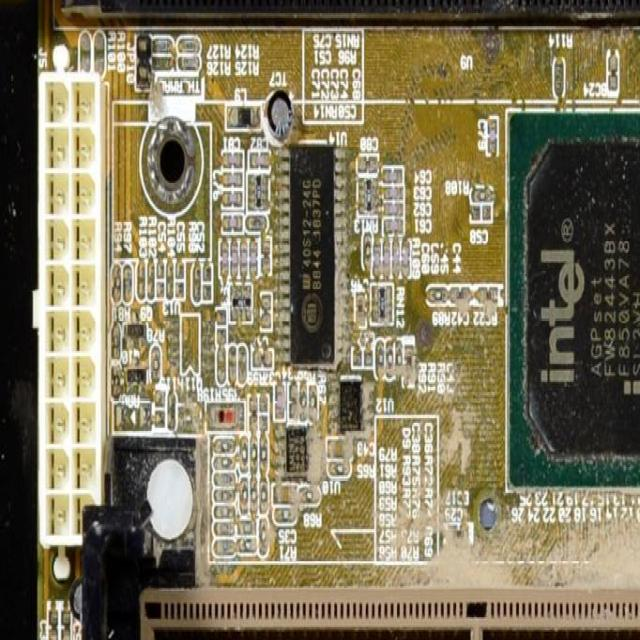IC: (504, 106, 640, 498), (277, 142, 344, 367), (330, 372, 374, 441), (276, 428, 316, 477)
capacitor: (272, 480, 296, 500), (327, 436, 351, 455), (474, 288, 498, 306), (383, 199, 404, 219), (448, 284, 468, 304), (222, 167, 242, 186), (176, 256, 185, 297), (249, 150, 270, 167), (488, 115, 497, 154), (203, 258, 212, 297), (383, 165, 402, 183), (223, 148, 243, 165), (222, 189, 242, 206), (274, 384, 284, 418), (383, 183, 404, 199), (470, 204, 492, 217), (383, 219, 403, 233), (357, 155, 380, 167), (157, 260, 164, 297)
connector: (135, 588, 640, 640), (55, 0, 639, 29)
resistor: (116, 400, 151, 429), (151, 52, 177, 72), (110, 320, 121, 367), (111, 262, 122, 306), (150, 342, 161, 386), (249, 236, 260, 278), (260, 237, 271, 279), (361, 233, 372, 274), (260, 289, 271, 330), (426, 282, 448, 302), (164, 390, 177, 423), (240, 475, 251, 514), (222, 212, 243, 232), (374, 338, 384, 380), (252, 349, 276, 366), (219, 237, 228, 281), (241, 238, 250, 282), (191, 262, 200, 306), (151, 36, 177, 51), (355, 289, 365, 327), (211, 487, 237, 501), (248, 394, 257, 434), (260, 434, 269, 474), (300, 486, 320, 504), (138, 258, 146, 302), (274, 506, 297, 521), (326, 461, 352, 474), (212, 474, 236, 488), (213, 505, 237, 519), (554, 59, 563, 96), (212, 436, 234, 451), (364, 328, 373, 364), (469, 185, 492, 199), (212, 539, 235, 553), (231, 237, 238, 282), (238, 346, 247, 381), (146, 258, 154, 297), (165, 258, 173, 297), (217, 304, 225, 343), (394, 339, 402, 378), (260, 392, 268, 431), (244, 214, 266, 228), (214, 454, 236, 468), (124, 262, 132, 300), (259, 477, 267, 514), (214, 521, 236, 534), (176, 56, 199, 68), (229, 342, 236, 381), (260, 518, 267, 555), (300, 377, 306, 420), (290, 379, 296, 421), (240, 434, 247, 470), (354, 331, 361, 366), (250, 437, 257, 472), (311, 384, 317, 424), (239, 536, 256, 550), (179, 42, 202, 52), (239, 521, 256, 534), (218, 344, 224, 380), (386, 339, 391, 378), (252, 480, 257, 518)
